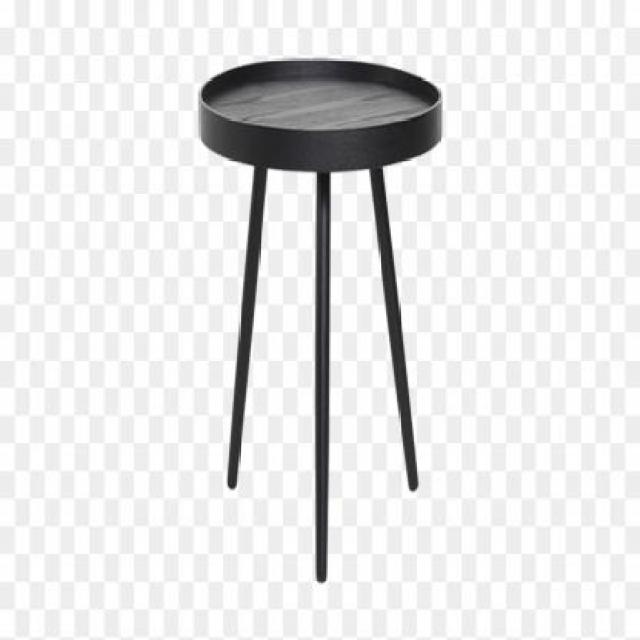table: (198, 57, 442, 585)
